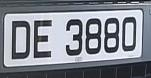0: (120, 12, 139, 57)
3: (63, 14, 84, 61)
8: (83, 13, 104, 59), (103, 12, 121, 58)
D: (7, 14, 35, 66)
E: (32, 14, 57, 65)
